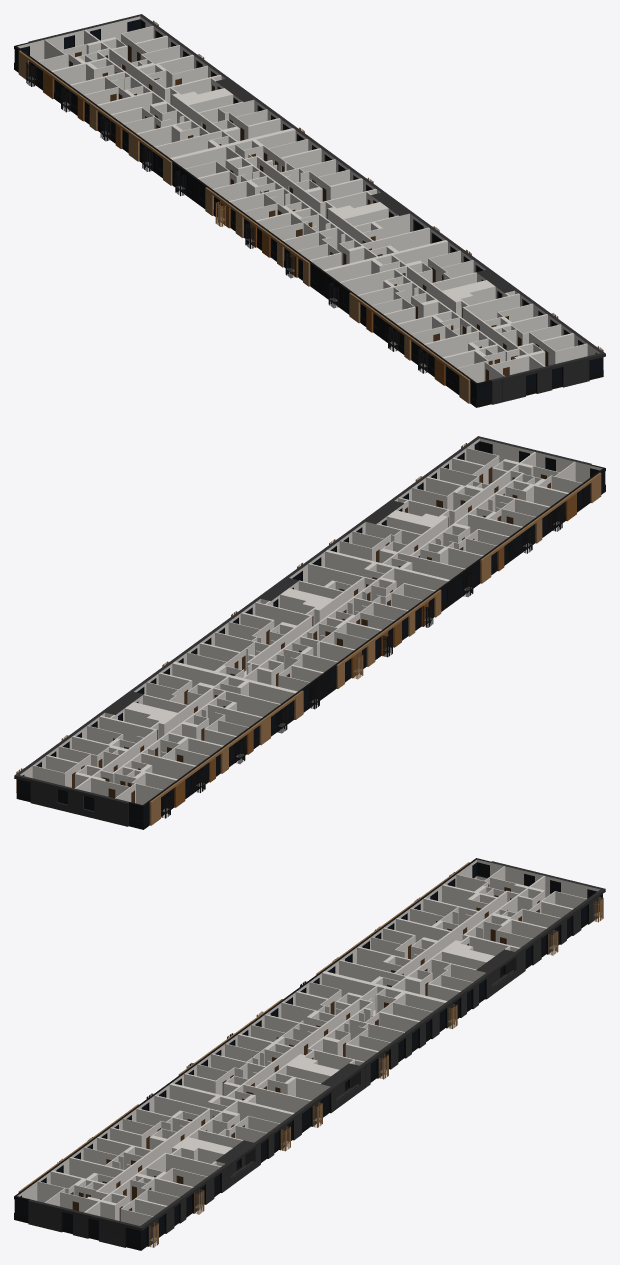
The model's file is floor_13.FBX.
The picture shows the model from 3 angles, top to bottom: view 1: azimuth 30°, elevation 25°; view 2: azimuth 150°, elevation 25°; view 3: azimuth 330°, elevation 25°; orthographic projection.
Visible parts, largest first — view 1: floor_13; view 2: floor_13; view 3: floor_13.
Boxes of the visible parts, x1=… form: floor_13: x1=14, y1=14, x2=605, y2=407; floor_13: x1=14, y1=436, x2=605, y2=829; floor_13: x1=14, y1=858, x2=605, y2=1250.
Size of the model in its own units: 18.75 by 3 by 108.
